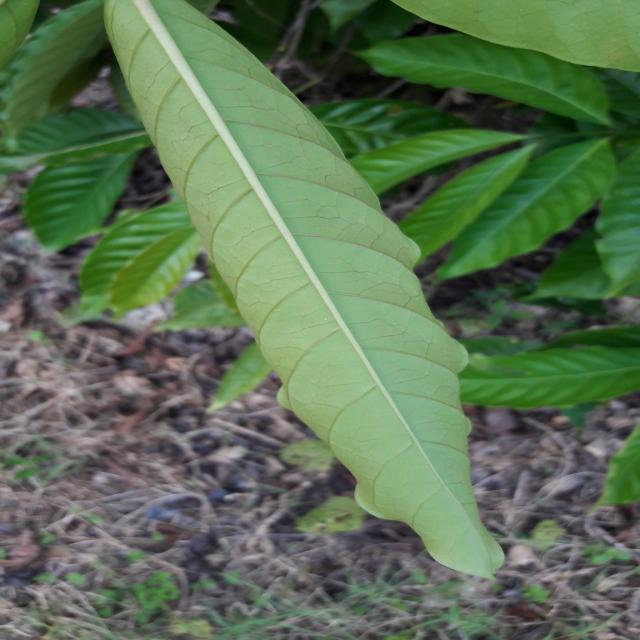Sanas: (98, 0, 506, 582)
